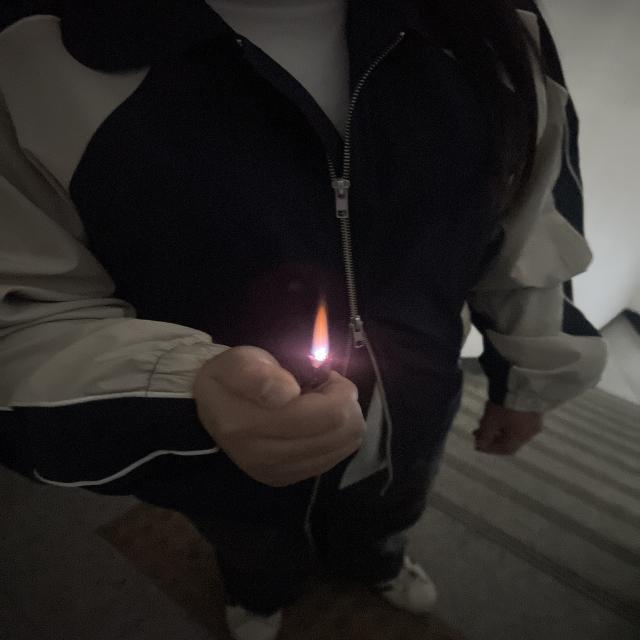fire: (308, 297, 329, 363)
